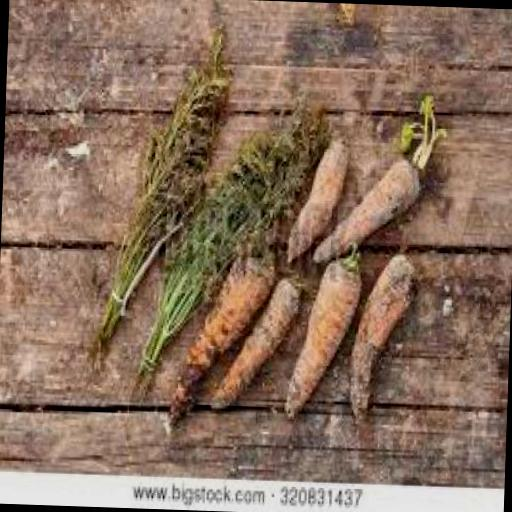biodegradable: (131, 85, 330, 393), (84, 16, 234, 372), (164, 246, 272, 428), (282, 236, 362, 420), (206, 269, 300, 408), (310, 151, 422, 261), (348, 247, 416, 420), (282, 128, 348, 261), (398, 92, 443, 163)
